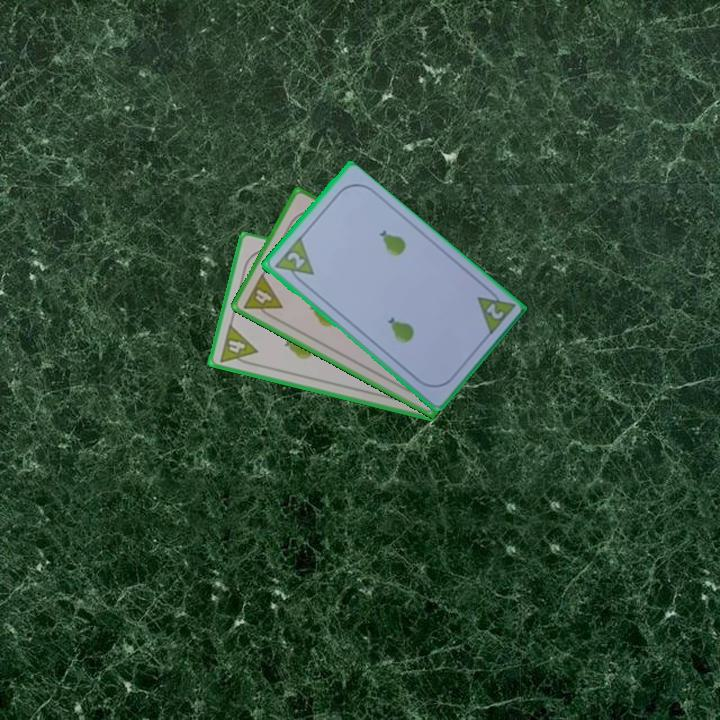2p: (270, 235, 317, 288), (473, 283, 517, 339)
4p: (240, 270, 285, 323), (216, 321, 260, 369)
